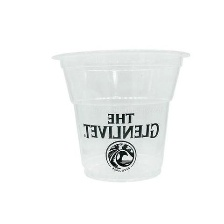glass: (41, 42, 193, 188)
